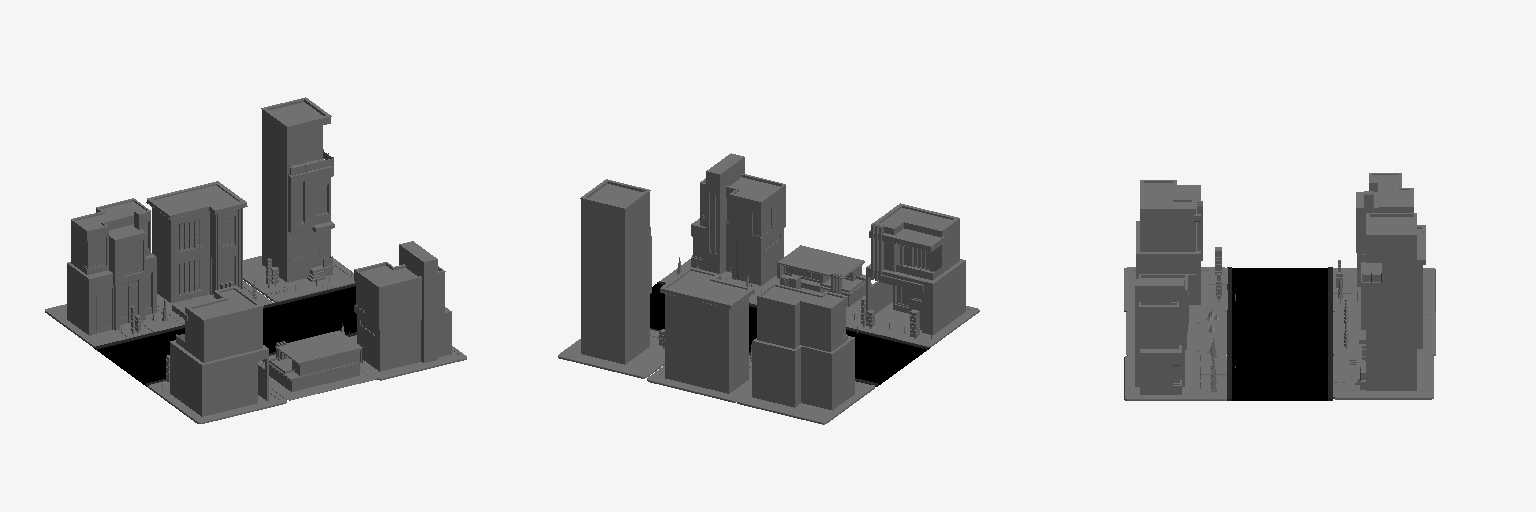
File: road2.obj
The picture shows the model from 3 angles: view 1: azimuth 30°, elevation 25°; view 2: azimuth 150°, elevation 25°; view 3: azimuth 270°, elevation 25°; orthographic projection.
Visible parts, largest first — view 1: Long_Straight_Road, Box437_Mesh_164, Box345_Mesh_313, Box335_Mesh_309, Box644_Mesh_238, Box524_Mesh_122, Line017_Mesh_194, Box523_Mesh_121, Box522_Mesh_120, Box658_Mesh_235, Box582_Mesh_063, Object093_Mesh_304 (+24 smaller); view 2: Box437_Mesh_164, Box644_Mesh_238, Line017_Mesh_194, Box422_Mesh_187, Long_Straight_Road, Box345_Mesh_313, Box523_Mesh_121, Box658_Mesh_235, Box582_Mesh_063, Box524_Mesh_122, Box335_Mesh_309, Object100_Mesh_311 (+16 smaller); view 3: Long_Straight_Road, Box437_Mesh_164, Box335_Mesh_309, Box523_Mesh_121, Box522_Mesh_120, Object276_Mesh_119, Box345_Mesh_313, Rectangle007_Mesh_175, Line022_Mesh_129, Object100_Mesh_311, Object122_Mesh_199, Rectangle019_Mesh_225 (+9 smaller).
Boxes of the visible parts, <box> form: Long_Straight_Road: <box>94,283,356,386</box>; Box437_Mesh_164: <box>262,110,330,282</box>; Box345_Mesh_313: <box>170,340,268,416</box>; Box335_Mesh_309: <box>185,292,262,362</box>; Box644_Mesh_238: <box>152,207,209,302</box>; Box524_Mesh_122: <box>354,270,444,329</box>; Line017_Mesh_194: <box>67,253,156,335</box>; Box523_Mesh_121: <box>399,241,437,362</box>; Box522_Mesh_120: <box>380,307,451,371</box>; Box658_Mesh_235: <box>146,181,247,219</box>; Box582_Mesh_063: <box>269,330,362,380</box>; Object093_Mesh_304: <box>213,361,257,413</box>; Box437_Mesh_164: <box>581,192,649,364</box>; Box644_Mesh_238: <box>665,294,748,393</box>; Line017_Mesh_194: <box>752,336,854,410</box>; Box422_Mesh_187: <box>757,297,847,351</box>; Long_Straight_Road: <box>650,281,929,386</box>; Box345_Mesh_313: <box>866,259,965,334</box>; Box523_Mesh_121: <box>706,153,744,273</box>; Box658_Mesh_235: <box>660,267,754,309</box>; Box582_Mesh_063: <box>777,245,865,295</box>; Box524_Mesh_122: <box>729,185,785,244</box>; Box335_Mesh_309: <box>884,220,959,273</box>; Object100_Mesh_311: <box>874,203,959,231</box>; Long_Straight_Road: <box>1227,267,1332,400</box>; Box437_Mesh_164: <box>1366,235,1416,390</box>; Box335_Mesh_309: <box>1140,210,1195,251</box>; Box523_Mesh_121: <box>1135,279,1184,386</box>; Box522_Mesh_120: <box>1140,345,1181,394</box>; Object276_Mesh_119: <box>1139,307,1178,348</box>; Box345_Mesh_313: <box>1136,221,1200,304</box>; Rectangle007_Mesh_175: <box>1333,355,1433,399</box>; Line022_Mesh_129: <box>1124,356,1226,400</box>; Object100_Mesh_311: <box>1140,180,1195,209</box>; Object122_Mesh_199: <box>1356,173,1413,207</box>; Rectangle019_Mesh_225: <box>1333,311,1435,355</box>.
Bounding box in the file's own units: 20 × 11.22 × 19.95.